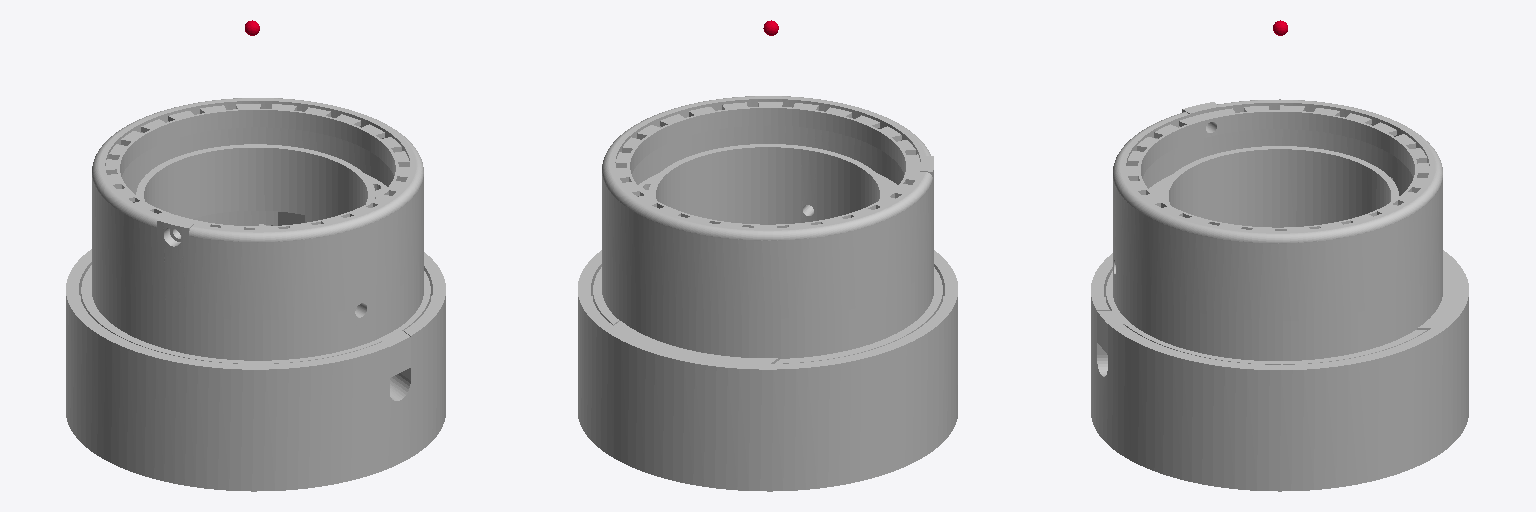
URDF robot description (universal_robot):
<?xml version="1.0"?>
<!--FOR GRIPPER, THERE IS NO LINK INERTIA DEFINED HERE-->
<robot name="universal_robot">

      <!-- TacTip -->
      <link name="tactip_body_link">
        <inertial>
          <origin rpy="0 0 0" xyz="0 0 0"/>
           <mass value="0.25"/>
           <inertia ixx="0.001" ixy="0" ixz="0" iyy="0.001" iyz="0" izz="0.001"/>
        </inertial>
        <visual>
          <origin rpy="0 0 0" xyz="0 0 0"/>
          <geometry>
    				<mesh filename="body/minitip_body.obj" scale="1.0 1.0 1.0"/>
          </geometry>
          <material name="whitish">
           <color rgba="0.8 0.8 0.8 1.0"/>
         </material>
        </visual>
        <collision>
          <origin rpy="0 0 0" xyz="0 0 0"/>
          <geometry>
    				<mesh filename="body/minitip_body.obj" scale="1.0 1.0 1.0"/>
          </geometry>
        </collision>
      </link>

      <link name="tactip_tip_link">
        <contact>
          <friction_anchor/>
          <lateral_friction value="1.0"/>
        </contact>
        <inertial>
          <origin rpy="0 0 0" xyz="0 0 0"/>
           <mass value="0.01"/>
           <inertia ixx="1" ixy="0" ixz="0" iyy="1" iyz="0" izz="1"/>
        </inertial>
        <visual>
          <origin rpy="0 0 0" xyz="0 0 0"/>
          <geometry>
            <mesh filename="tip/skin.obj" scale="1.0 1.0 1.0"/>
          </geometry>
          <material name="black">
             <color rgba="0.0 0.0 0.0 1.0"/>
         </material>
        </visual>
        <collision>
          <origin rpy="0 0 0" xyz="0 0 0"/>
          <geometry>
              <mesh filename="tip/core.obj" scale="1.0 1.0 1.0"/>
          </geometry>
        </collision>
      </link>

      <joint name="tactip_tip_to_body" type="fixed">
         <origin rpy="1.57 0 0" xyz="0.0 0.0 0.035"/>
         <axis xyz="0 1 0"/>
         <parent link="tactip_body_link"/>
         <child link="tactip_tip_link"/>
      </joint>


      <!-- TCP -->
      <link name="tcp_link">
        <visual>
          <origin rpy="0 0 0" xyz="0 0 0"/>
          <geometry>
            <sphere radius="0.001"/>
          </geometry>
          <material name="TransparentRed">
            <color rgba="0.9 0 0.2 0.5"/>
          </material>
        </visual>
        <inertial>
          <mass value="0.0"/>
          <origin rpy="0.0 0.0 1.57" xyz="0.0 0.0 0.0"/>
          <inertia ixx="1.0" ixy="0.0" ixz="0.0" iyy="1.0" iyz="0.0" izz="1.0"/>
        </inertial>
      </link>

      <joint name="tcp_joint" type="fixed">
        <parent link="tactip_body_link"/>
        <child link="tcp_link"/>
        <origin rpy="0 0 0" xyz="0.0 0.0 0.055"/>
      </joint>

</robot>

--- What the picture shows (computed from the rendered views, not written in the file) ---
3 views of the same robot in one strip: view 1: azimuth 30°, elevation 25°; view 2: azimuth 150°, elevation 25°; view 3: azimuth 270°, elevation 25° (orthographic).
Robot: universal_robot — 3 links, 2 joints (2 fixed); root link tactip_body_link; default pose: every joint at zero.
Links seen in each view (by area): view 1: tactip_body_link; view 2: tactip_body_link; view 3: tactip_body_link.
Link boxes in pixels (x1,y1,x2,y2): tactip_body_link: [66, 98, 445, 491]; tactip_body_link: [578, 96, 957, 491]; tactip_body_link: [1091, 99, 1468, 491].
Bounding box of the posed robot: 0.0493 × 0.0493 × 0.0558 m (x, y, z).
Meshes: 2 distinct files referenced, 1 mesh visuals loaded (1 OBJ); not drawn: 1 (reference not matched to a file when rendering).